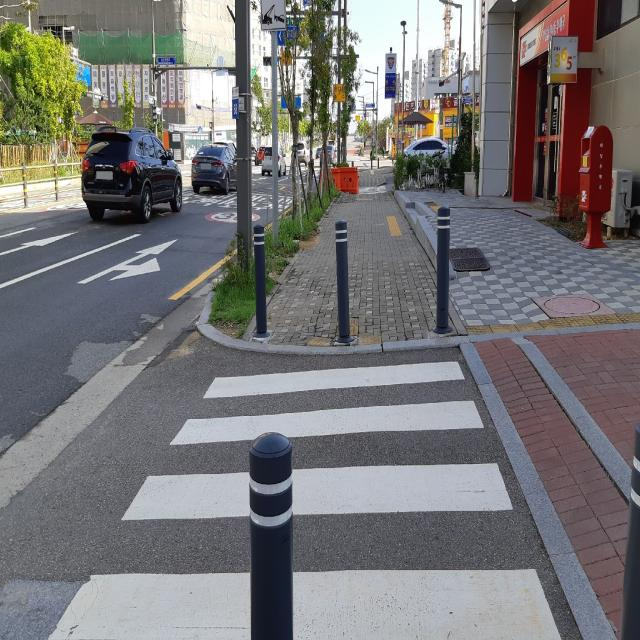횡단보도: (43, 356, 563, 639)
